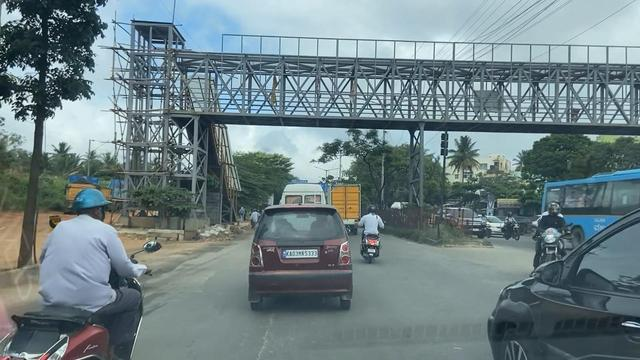LMV: (249, 203, 352, 306), (359, 206, 380, 259)
RoadDamages: (157, 238, 228, 300), (244, 314, 280, 358)
